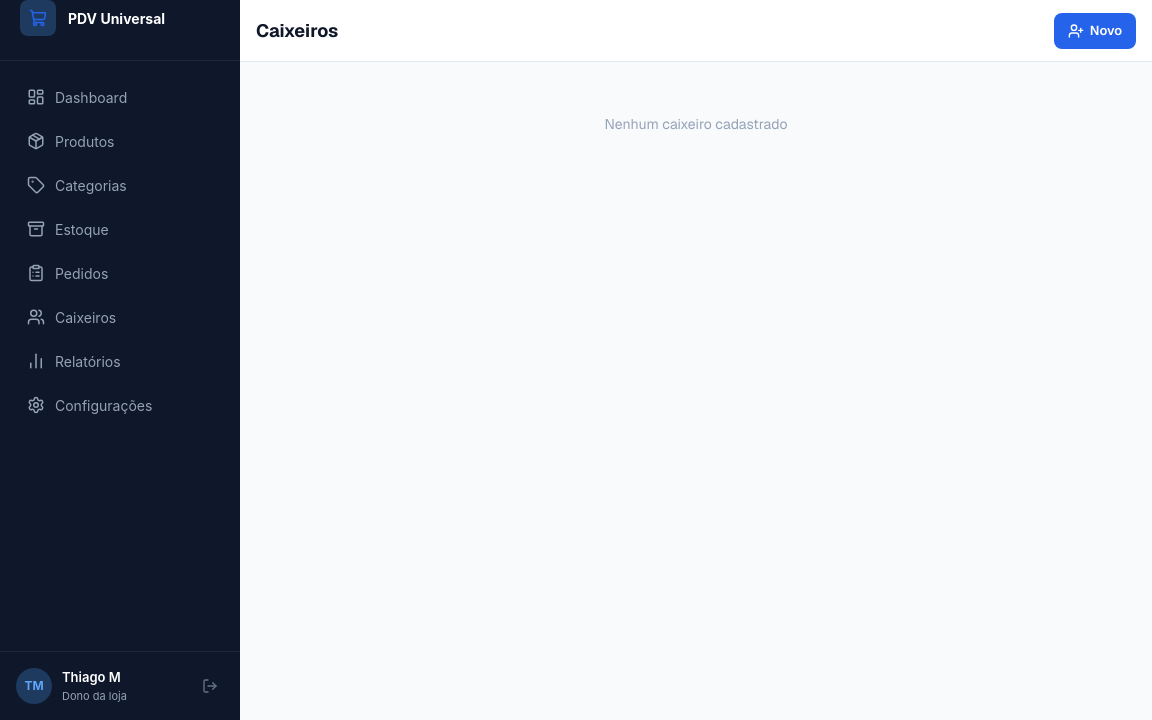
UsuariosPage › opens the sheet when "Novo" button is clicked
Click the button "Novo": (1095, 30) 1054,12 -> 1136,48
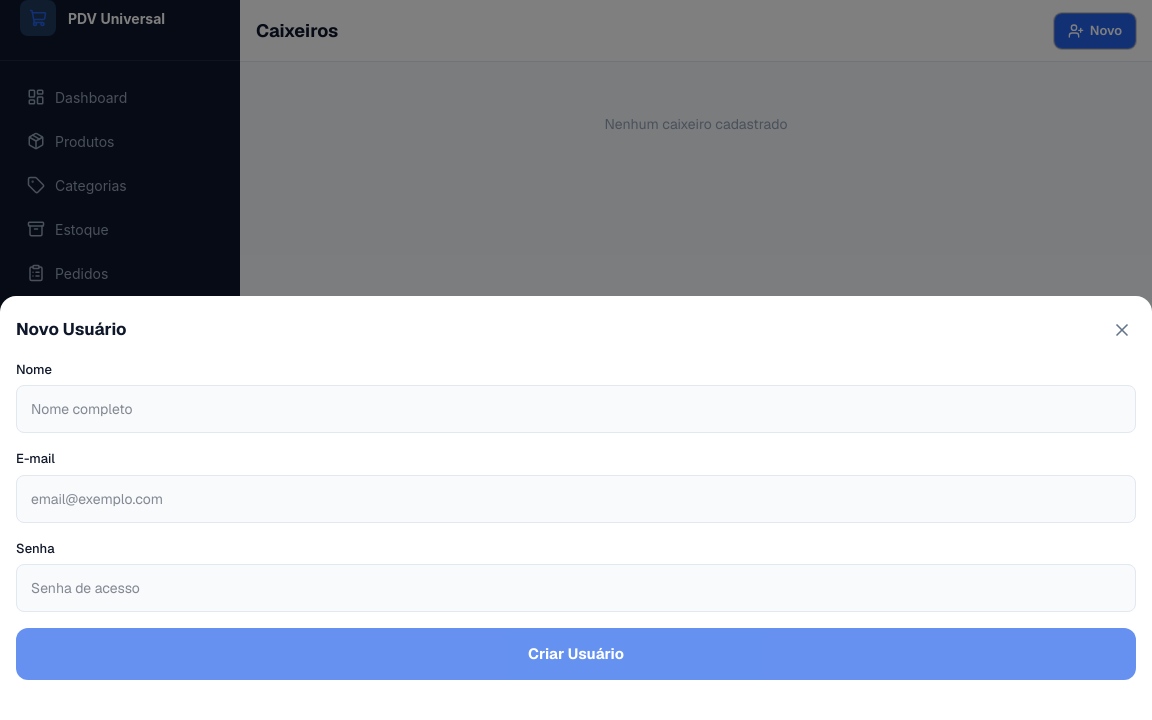
Now the text "Novo Usuário" is shown, box 16,317 -> 127,342
